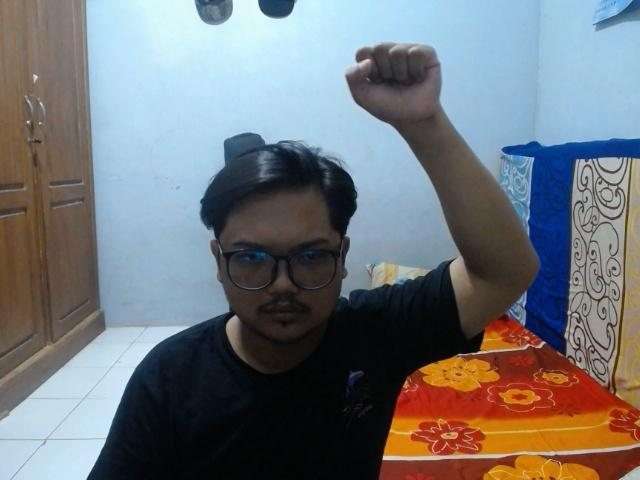Grab: (341, 39, 447, 132)
